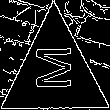M_W: (32, 49, 77, 96)
